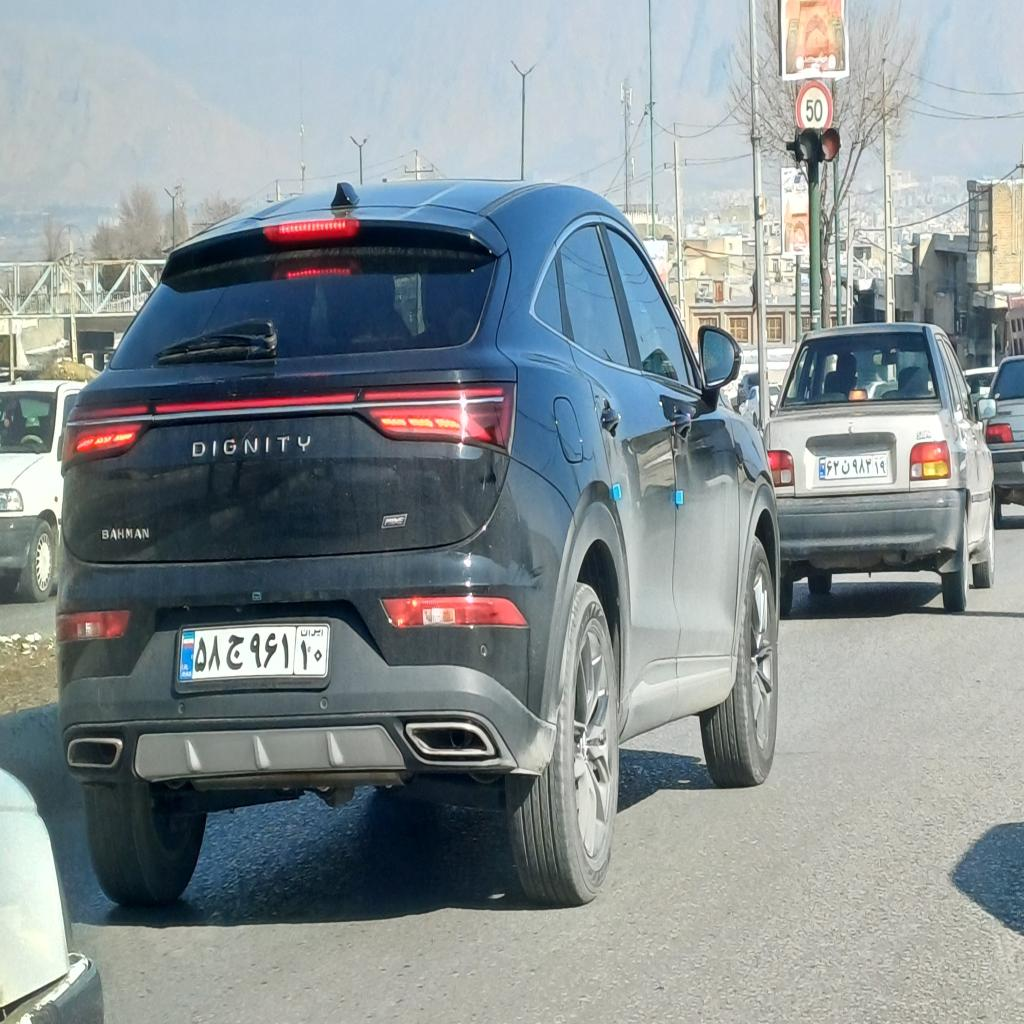Plates: (179, 620, 330, 679), (817, 452, 888, 483)
